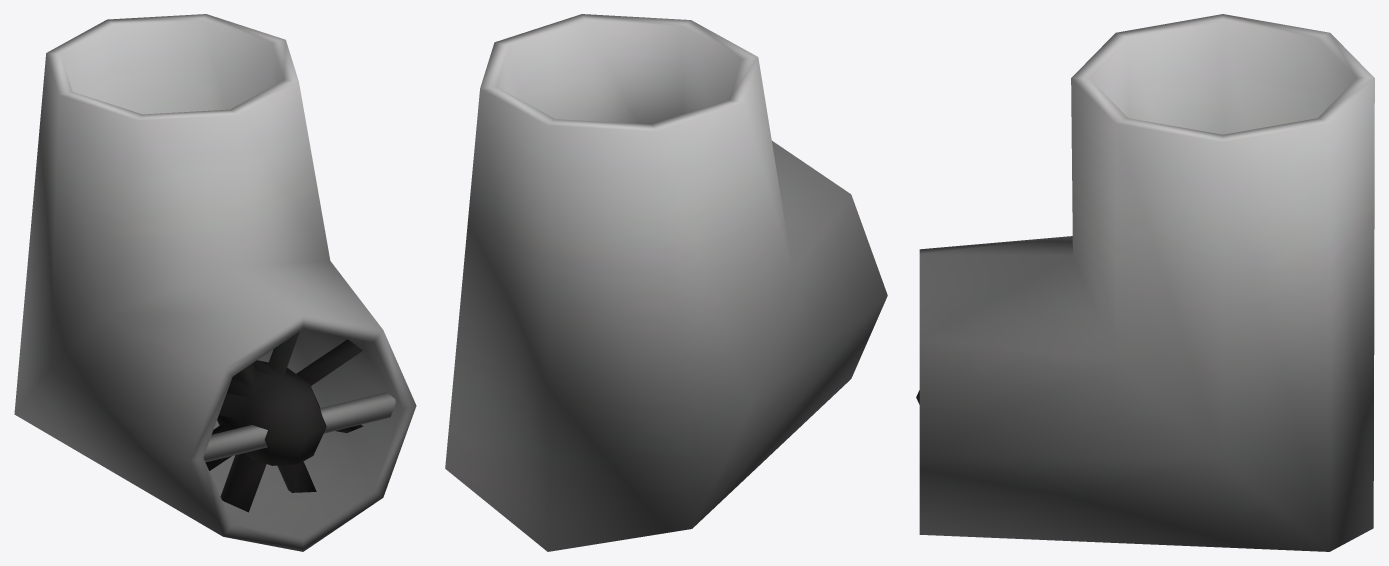
File: VentoinhaCurveEng.fbx
3 renders of one model, left to right at view 1: azimuth 30°, elevation 25°; view 2: azimuth 150°, elevation 25°; view 3: azimuth 270°, elevation 25°, orthographic. The views are drawn at different scales.
Visible parts, largest first — view 1: VentoinhaCurveEng; view 2: VentoinhaCurveEng; view 3: VentoinhaCurveEng.
Boxes of the visible parts, x1,y1,x2,y2 form: VentoinhaCurveEng: (14, 14, 416, 551); VentoinhaCurveEng: (445, 14, 887, 551); VentoinhaCurveEng: (916, 14, 1374, 551).
Size of the model in its own units: 61.24 by 93.3 by 85.92.
Materials: 1 (1 with a texture image).
